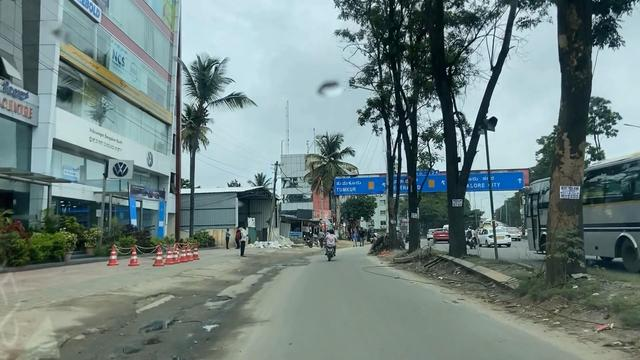RoadDamages: (134, 308, 236, 360)
